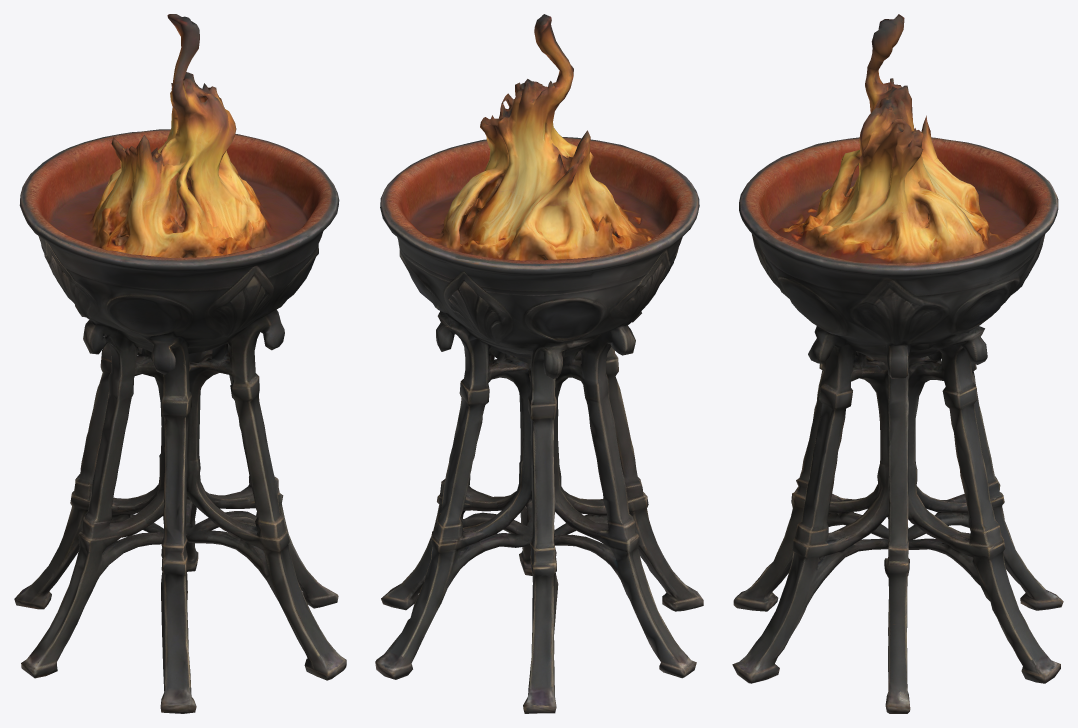
File: ritual_brazier_lit.glb
3 views of the same model, side by side, from view 1: azimuth 30°, elevation 25°; view 2: azimuth 150°, elevation 25°; view 3: azimuth 270°, elevation 25° (orthographic).
Bounding box in the file's own units: 1.02 × 2 × 0.9666.
1 material, 1 textured.
